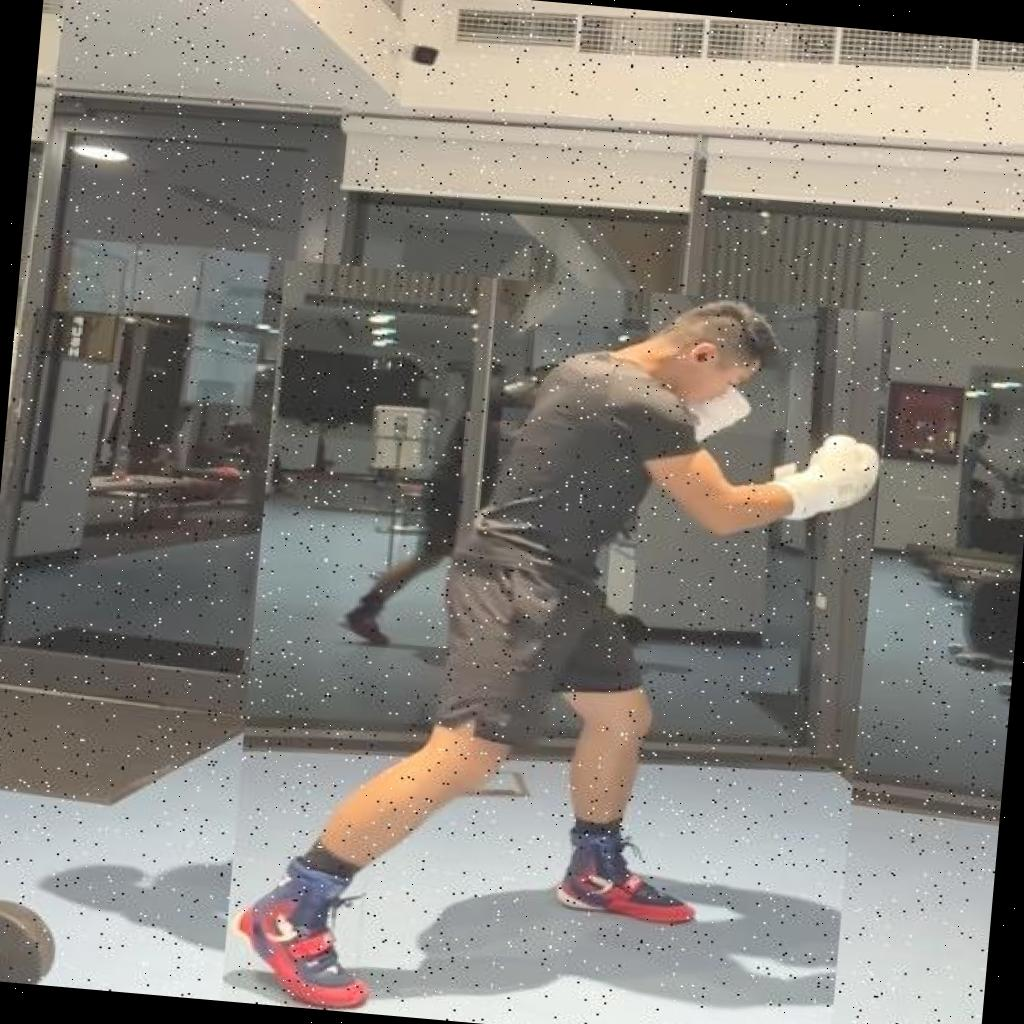uppercut: (220, 259, 893, 1024)
